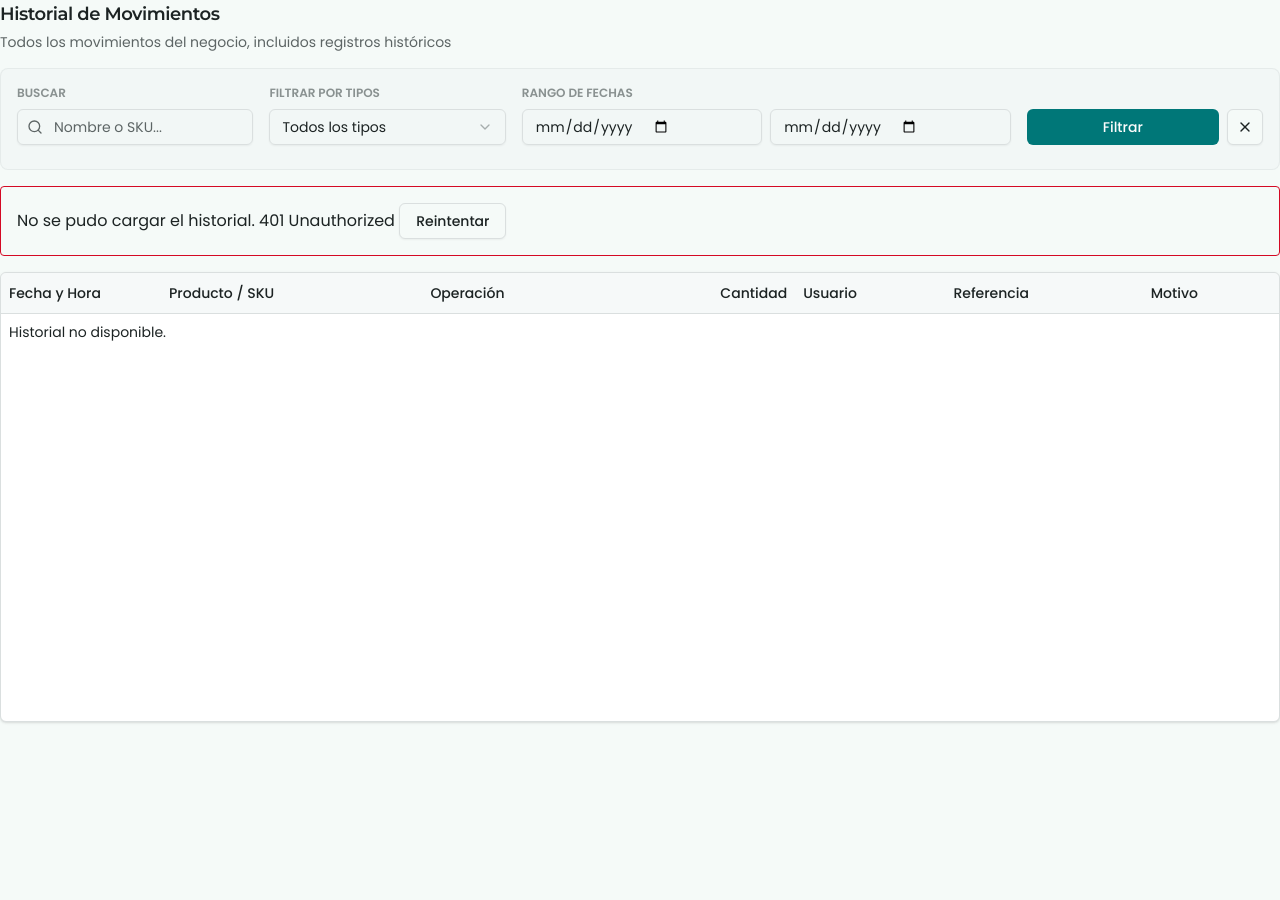
Scenario: shows error and retry without false empty history, then recovers
The width and height of the screenshot is (1280, 900).
Expected: the message shows "401 Unauthorized", [259, 209, 395, 232]
Click the button "Reintentar". click: (453, 221)
box: [399, 203, 506, 239]
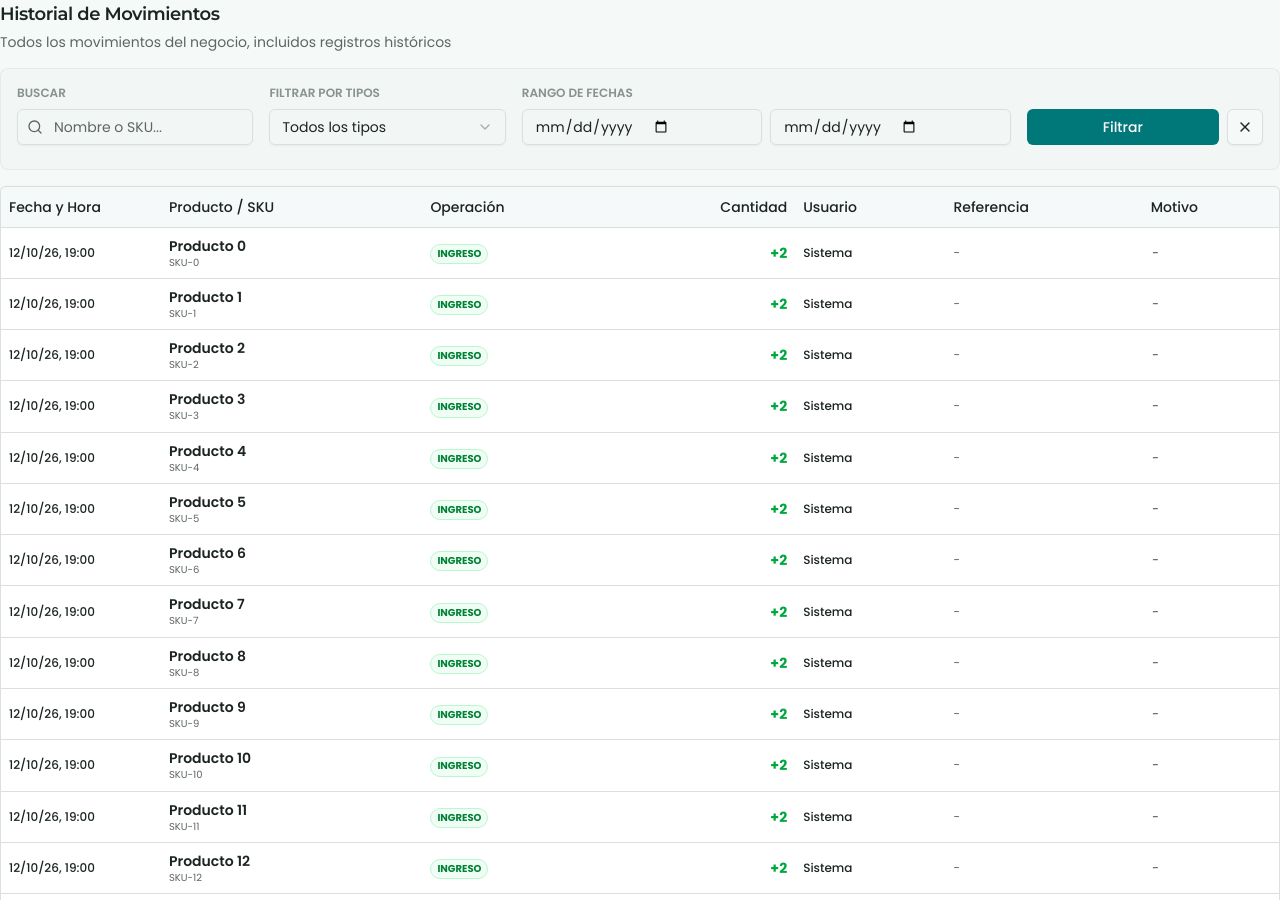
Now the text "Producto 0" is shown, box [169, 236, 246, 256]
Now the message "No se pudo cargar el historial. 401 Unauthorized Reintentar" is gone
